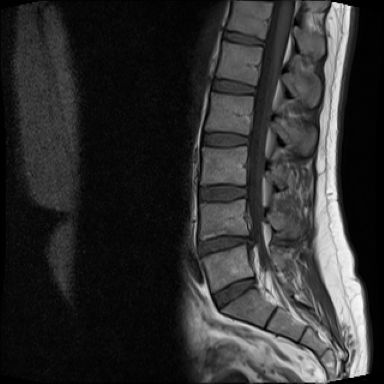Lumbar Disc Bulge (LDB): (189, 227, 266, 262)
Normal IVD: (205, 268, 260, 315), (206, 72, 259, 99), (194, 127, 253, 151), (191, 181, 250, 205), (219, 26, 269, 49)
